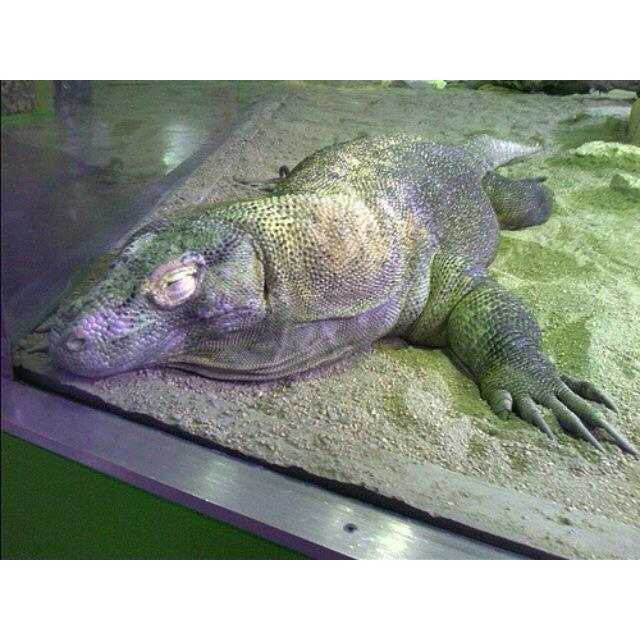KomodoDragon: (25, 134, 638, 460)
